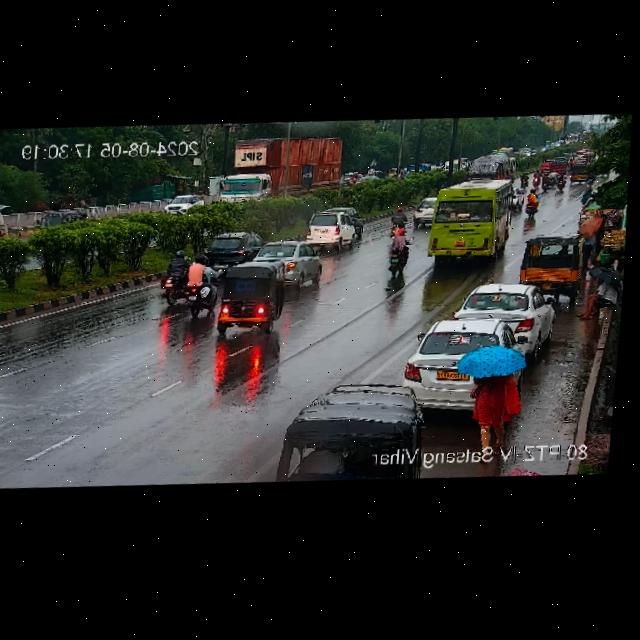bus: (419, 163, 519, 269)
car: (399, 304, 523, 411), (278, 379, 425, 451), (449, 275, 560, 359), (209, 258, 286, 347), (520, 231, 593, 304), (246, 231, 324, 294), (203, 218, 263, 266), (306, 211, 354, 252), (329, 199, 367, 240), (163, 187, 204, 217), (32, 208, 88, 229), (411, 196, 438, 232), (565, 160, 591, 187), (0, 185, 10, 240), (512, 183, 527, 215), (540, 157, 555, 173)
motorcycle: (149, 240, 201, 309), (177, 251, 221, 327), (374, 223, 418, 290), (379, 207, 412, 243), (519, 185, 545, 218), (527, 164, 543, 192), (554, 169, 569, 193), (515, 169, 529, 191), (585, 169, 599, 188), (540, 170, 552, 192), (548, 167, 557, 187)
person: (445, 340, 526, 455), (580, 262, 621, 328), (576, 207, 606, 269), (591, 207, 620, 251)
truck: (214, 135, 345, 215), (459, 147, 518, 190)
